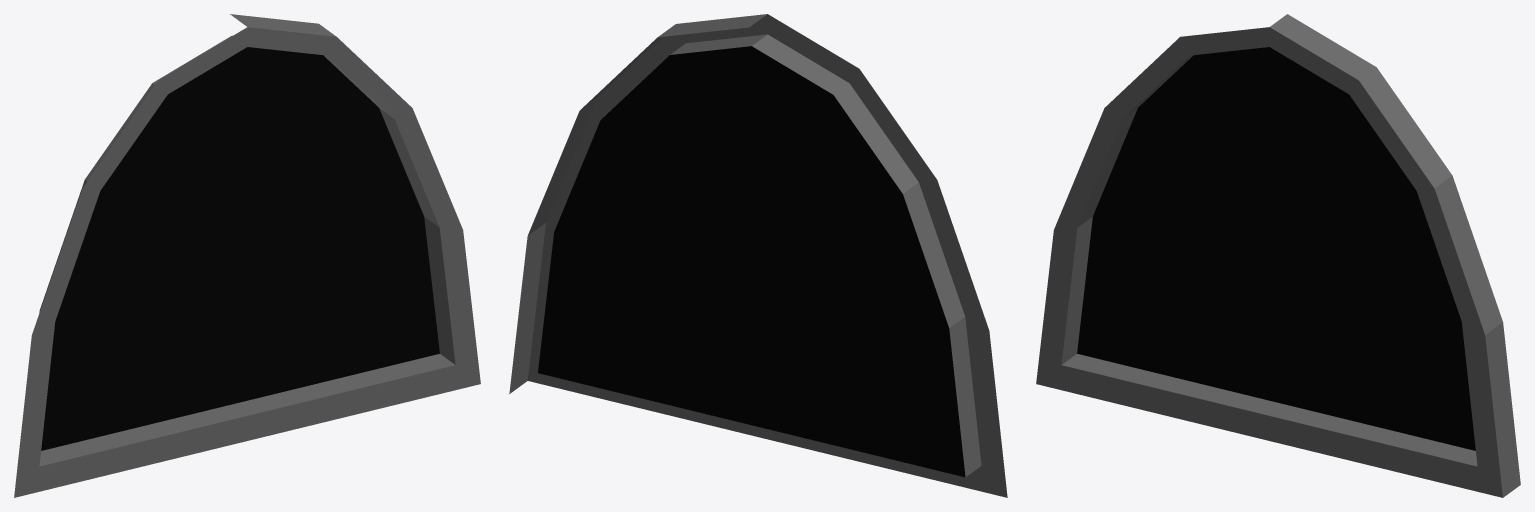
File: LowPolyTrain_RoadExit.fbx
3 views of the same model, side by side, from view 1: azimuth 30°, elevation 25°; view 2: azimuth 150°, elevation 25°; view 3: azimuth 330°, elevation 25° (orthographic). The views are drawn at different scales.
Parts seen in each view (by area): view 1: Cylinder; view 2: Cylinder; view 3: Cylinder.
Part boxes in pixels (<box>): Cylinder: <box>14,14,480,497</box>; Cylinder: <box>509,14,1007,497</box>; Cylinder: <box>1036,14,1520,497</box>.
Size of the model in its own units: 426 by 361 by 28.34.
Materials: 1 (1 with a texture image).
